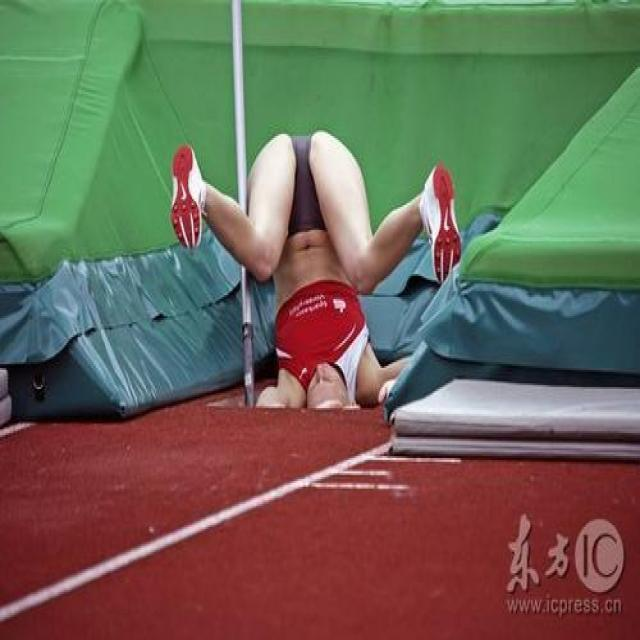fall: (172, 132, 448, 402)
